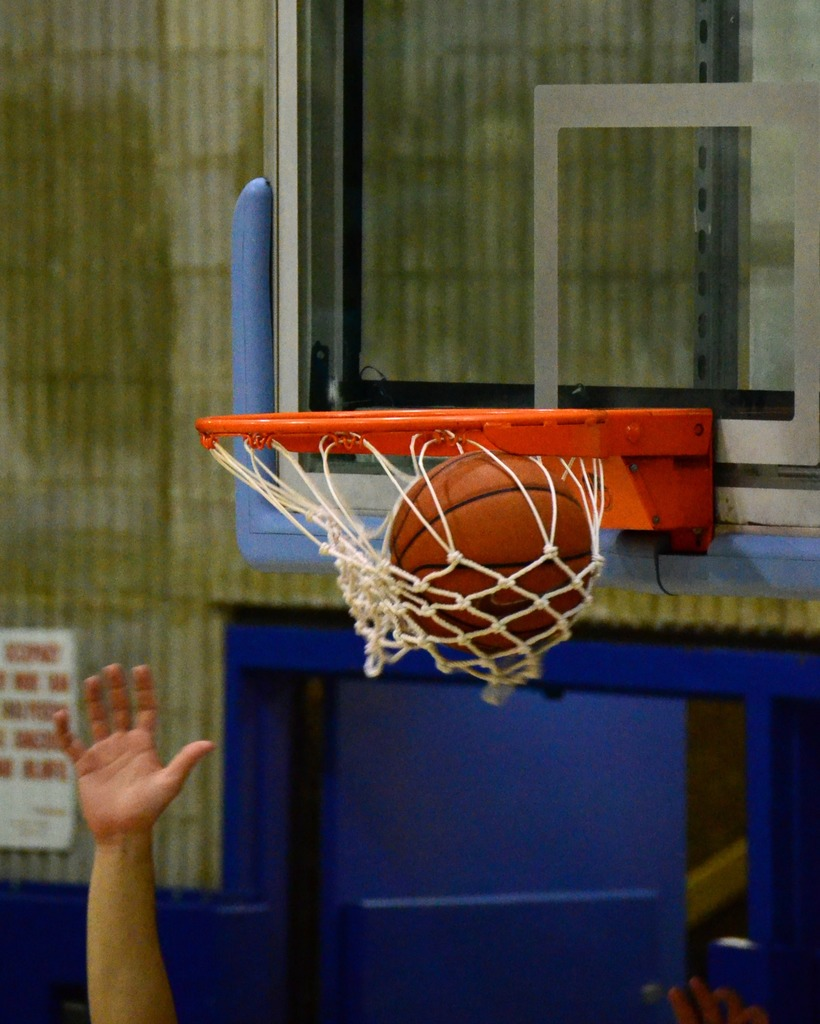Ball: (387, 452, 603, 652)
